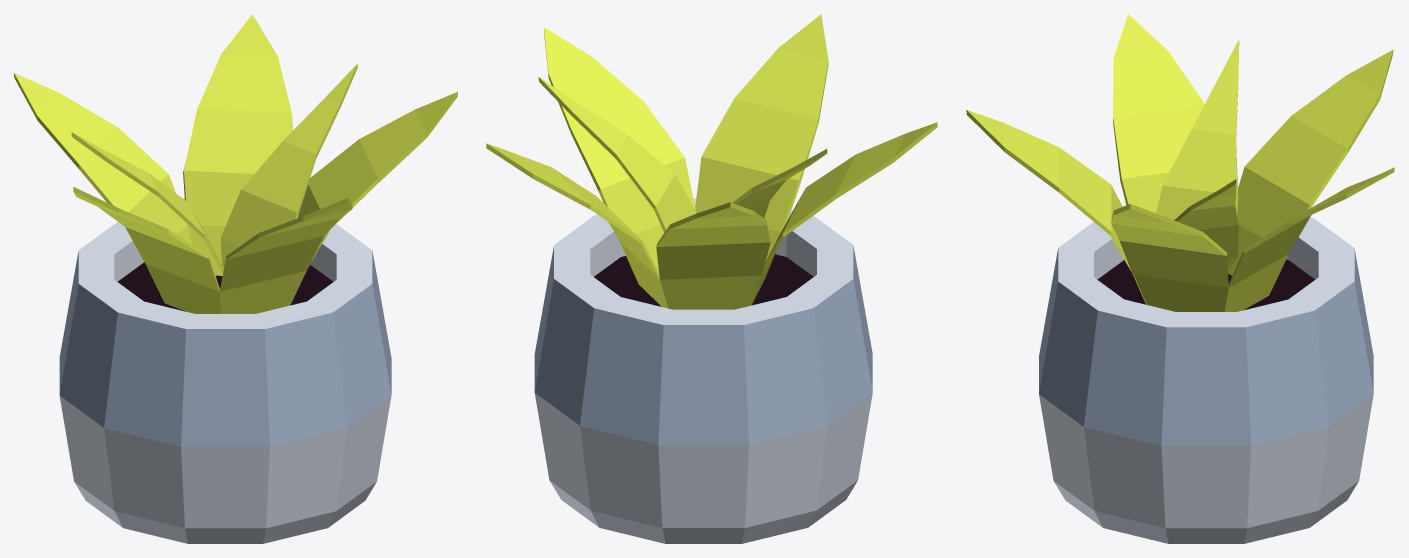
Rendered from F_PottedPlant_01.fbx.
3 renders of one model, left to right at view 1: azimuth 30°, elevation 25°; view 2: azimuth 150°, elevation 25°; view 3: azimuth 270°, elevation 25°, orthographic.
Visible parts, largest first — view 1: F_PottedPlant_01; view 2: F_PottedPlant_01; view 3: F_PottedPlant_01.
Part boxes in pixels (<box>): F_PottedPlant_01: <box>14,14,457,543</box>; F_PottedPlant_01: <box>486,14,937,543</box>; F_PottedPlant_01: <box>966,14,1394,543</box>.
Bounding box in the file's own units: 77.26 × 71.71 × 73.65.
